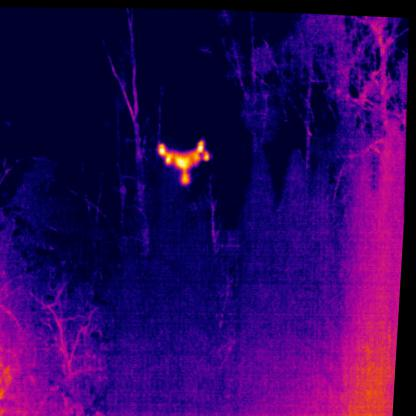drone: (156, 133, 213, 184)
